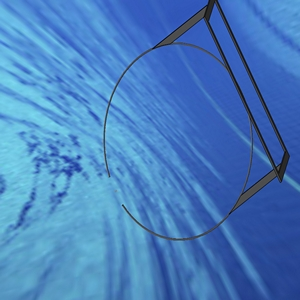circle: (102, 0, 290, 240)
